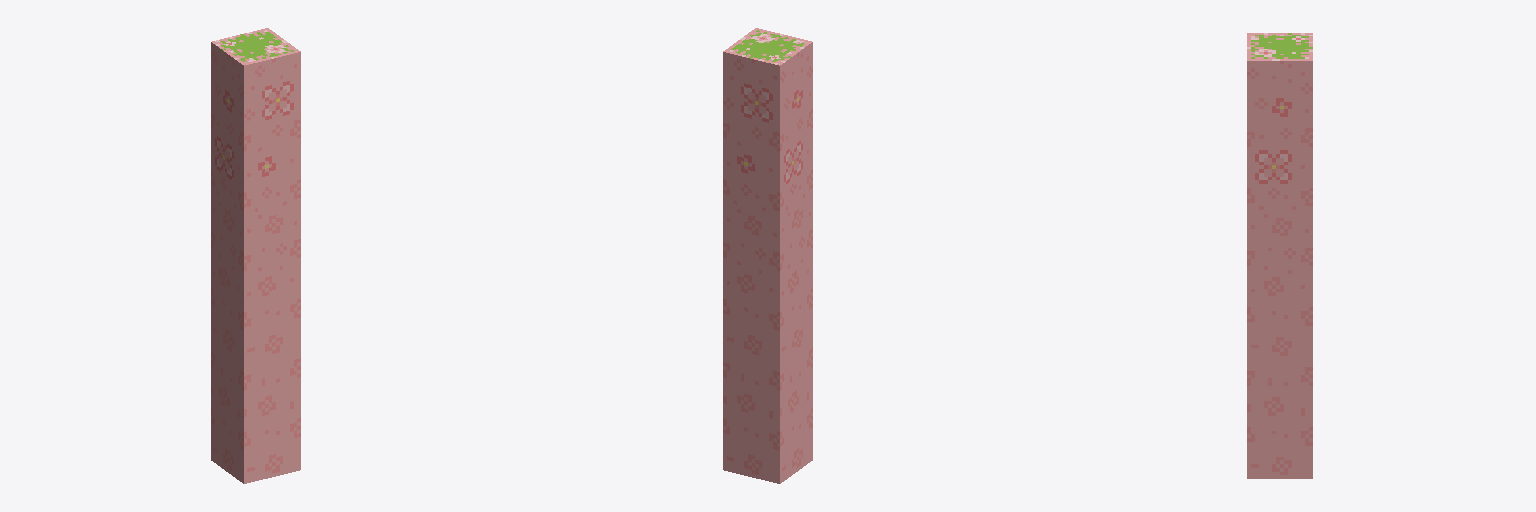
3 views of the same model, side by side, from view 1: azimuth 30°, elevation 25°; view 2: azimuth 150°, elevation 25°; view 3: azimuth 270°, elevation 25° (orthographic).
Visible parts, largest first — view 1: Untitled; view 2: Untitled; view 3: Untitled.
Boxes of the visible parts, x1,y1,x2,y2 form: Untitled: [211, 28, 300, 483]; Untitled: [723, 28, 812, 483]; Untitled: [1247, 33, 1312, 478].
Bounding box in the file's own units: 1.6 × 11.2 × 1.6.
Materials: 1 (1 with a texture image).